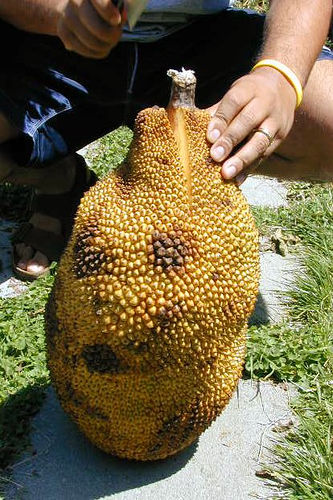jackfruit: (41, 102, 264, 462)
